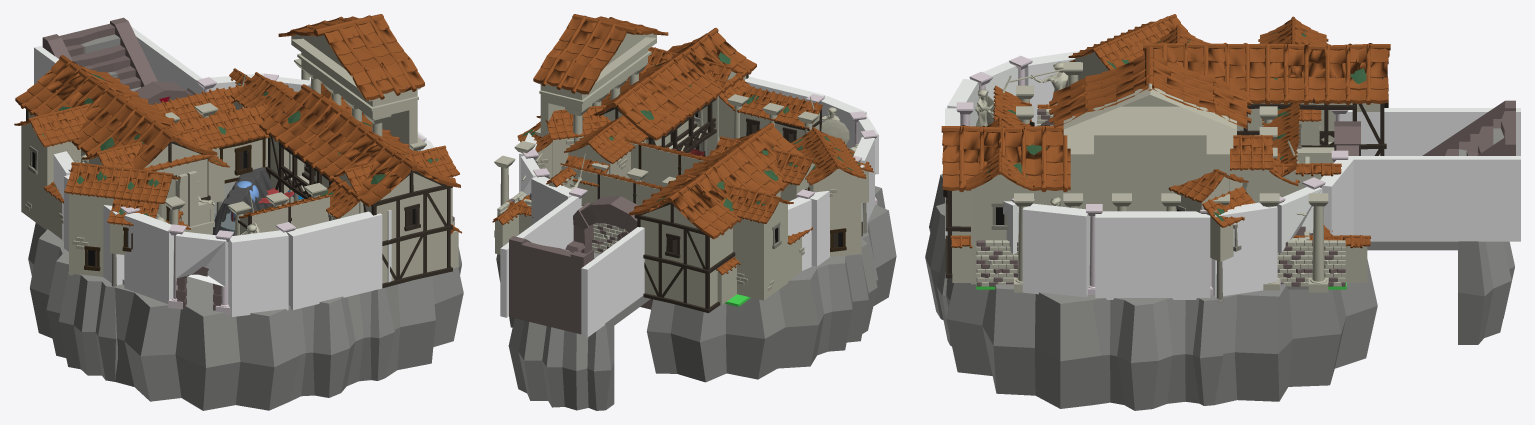
Rendered from RoomR7.fbx.
3 views of the same model, side by side, from view 1: azimuth 30°, elevation 25°; view 2: azimuth 150°, elevation 25°; view 3: azimuth 270°, elevation 25° (orthographic). The views are drawn at different scales.
Visible parts, largest first — view 1: CentralHub, R-R2, R-R3, R-R4, R-R6, R-R1, R-R7, TunnelNE; view 2: CentralHub, R-R2, R-R4, R-R3, R-R6, R-R1, R-R7, R-R5, R-R8; view 3: CentralHub, R-R3, R-R2, R-R6, R-R4, R-R7, R-R8, R-R1.
Boxes of the visible parts, <box> form: CentralHub: <box>28,17,463,410</box>; R-R2: <box>15,55,460,288</box>; R-R3: <box>165,14,424,235</box>; R-R4: <box>14,83,459,239</box>; R-R6: <box>64,83,461,286</box>; R-R1: <box>82,72,304,231</box>; R-R7: <box>165,58,426,224</box>; TunnelNE: <box>212,167,273,235</box>; CentralHub: <box>496,76,896,410</box>; R-R2: <box>593,28,803,313</box>; R-R4: <box>560,47,822,300</box>; R-R3: <box>533,14,819,186</box>; R-R6: <box>492,105,873,305</box>; R-R1: <box>560,115,819,205</box>; R-R7: <box>494,128,709,237</box>; R-R5: <box>518,177,628,253</box>; R-R8: <box>497,191,750,306</box>; CentralHub: <box>925,49,1520,410</box>; R-R3: <box>1016,46,1277,211</box>; R-R2: <box>941,42,1390,278</box>; R-R6: <box>950,14,1370,302</box>; R-R4: <box>964,16,1328,284</box>; R-R7: <box>1014,62,1341,292</box>; R-R8: <box>976,240,1346,289</box>; R-R1: <box>1156,25,1299,202</box>.
Size of the model in its own units: 2923 by 2140 by 3715.
